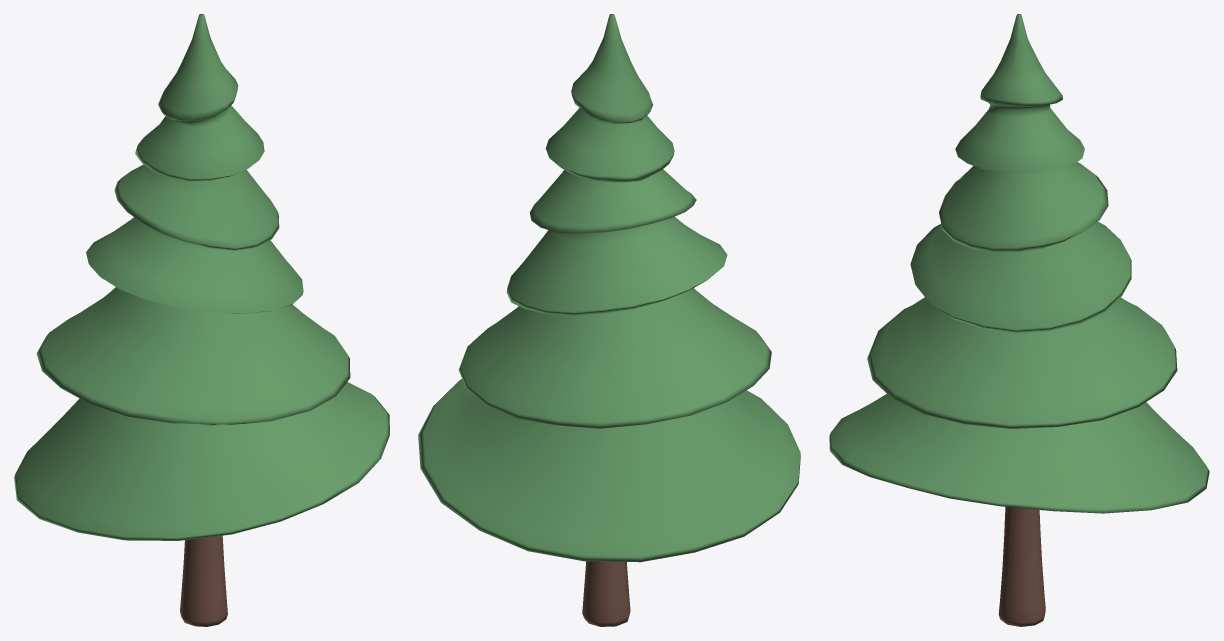
The model's file is Tree2.fbx.
3 renders of one model, left to right at view 1: azimuth 30°, elevation 25°; view 2: azimuth 150°, elevation 25°; view 3: azimuth 270°, elevation 25°, orthographic.
Visible parts, largest first — view 1: TreeCurved1; view 2: TreeCurved1; view 3: TreeCurved1.
Boxes of the visible parts, x1,y1,x2,y2 form: TreeCurved1: [14, 14, 389, 626]; TreeCurved1: [418, 14, 800, 626]; TreeCurved1: [829, 14, 1209, 626].
Bounding box in the file's own units: 9.37 × 16.45 × 9.44.
